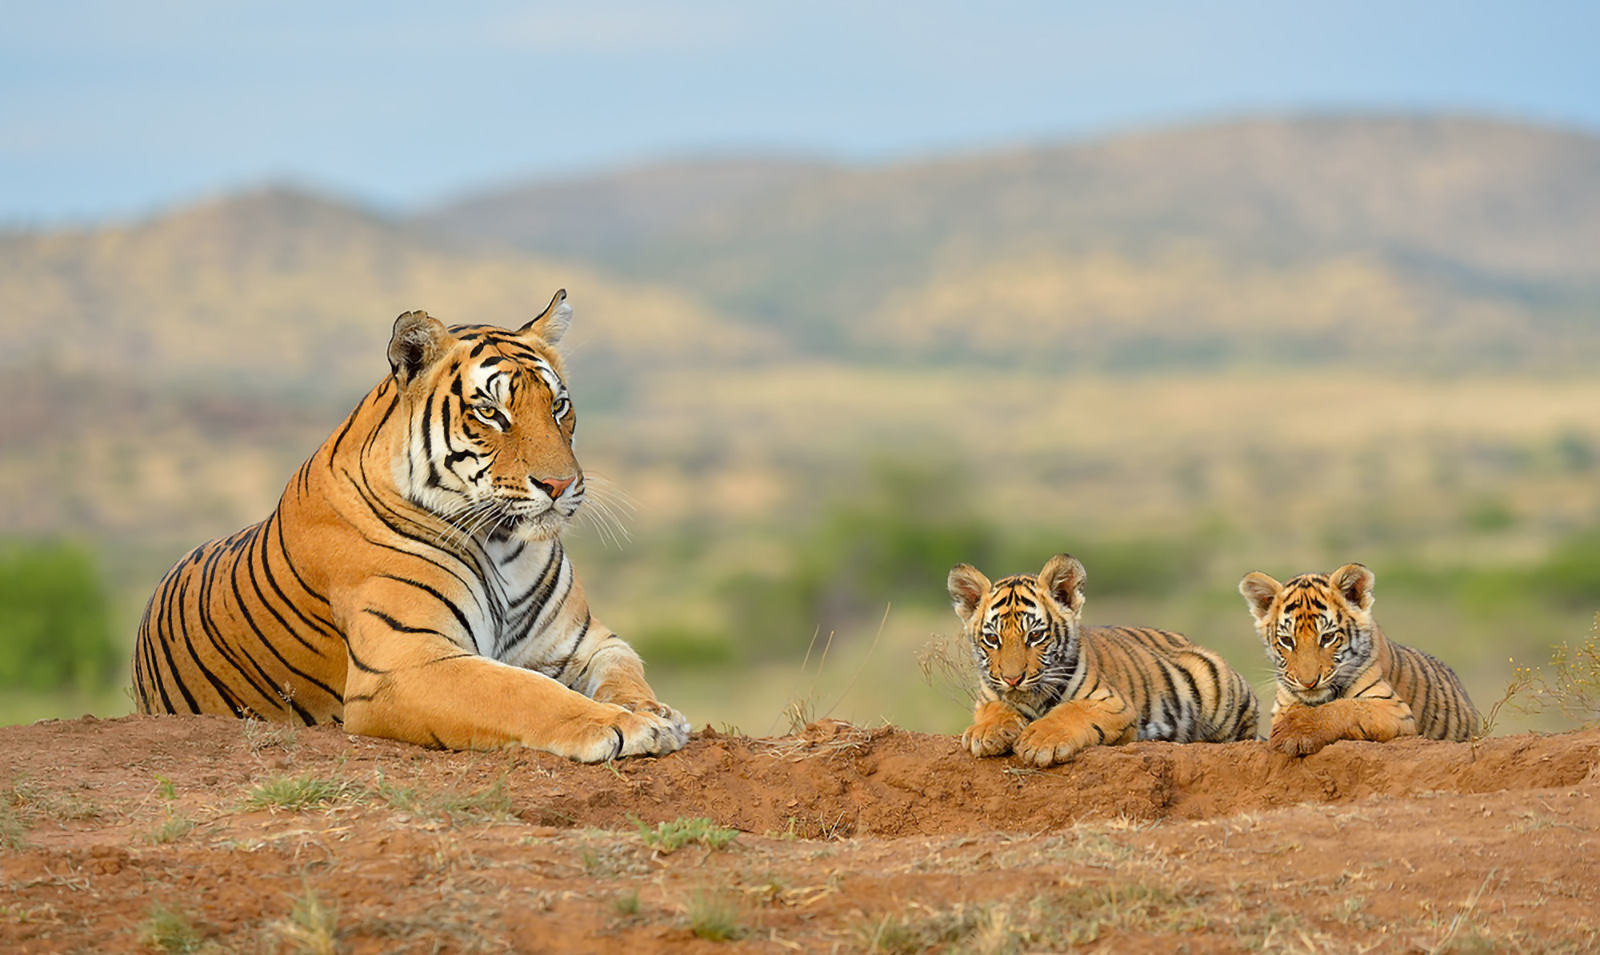tiger: (99, 281, 716, 823), (916, 532, 1259, 777), (1223, 562, 1510, 809)
